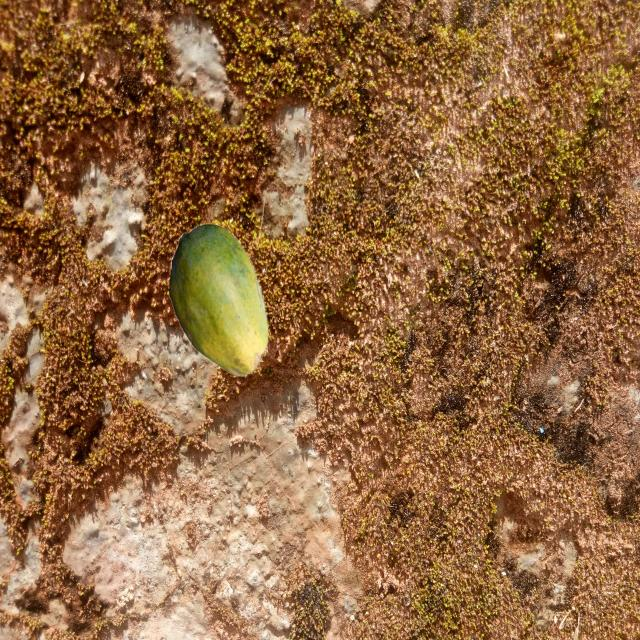Pepaya rippen: (162, 218, 276, 382)
